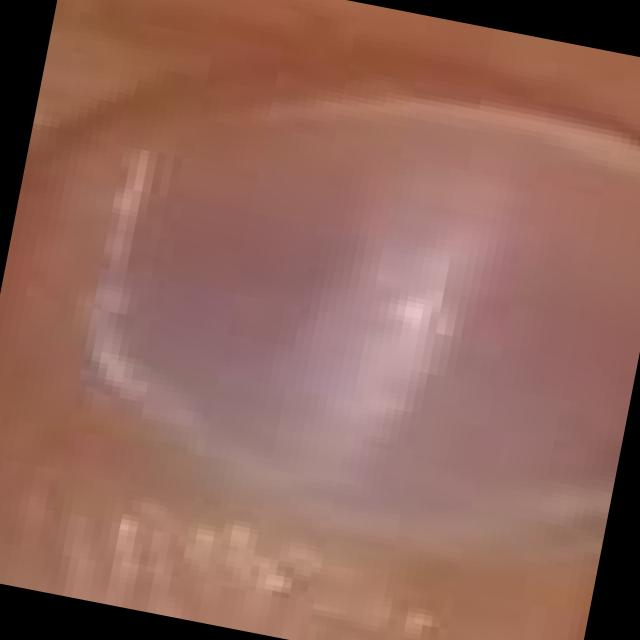Nail: (88, 99, 640, 540)
